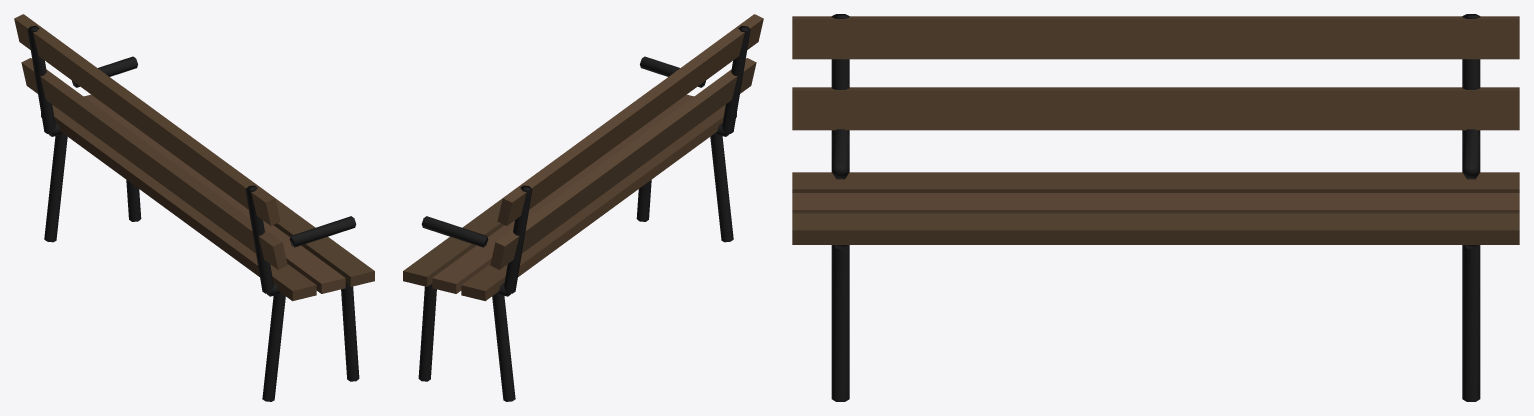
File: SM_Prop_seat_0.glb
3 renders of one model, left to right at view 1: azimuth 30°, elevation 25°; view 2: azimuth 150°, elevation 25°; view 3: azimuth 270°, elevation 25°, orthographic. The views are drawn at different scales.
Visible parts, largest first — view 1: SM_Prop_seat_0; view 2: SM_Prop_seat_0; view 3: SM_Prop_seat_0.
Boxes of the visible parts, x1=… form: SM_Prop_seat_0: x1=14, y1=14, x2=374, y2=401; SM_Prop_seat_0: x1=403, y1=14, x2=763, y2=401; SM_Prop_seat_0: x1=792, y1=14, x2=1519, y2=401.
Bounding box in the file's own units: 0.4588 × 0.8554 × 1.8.
